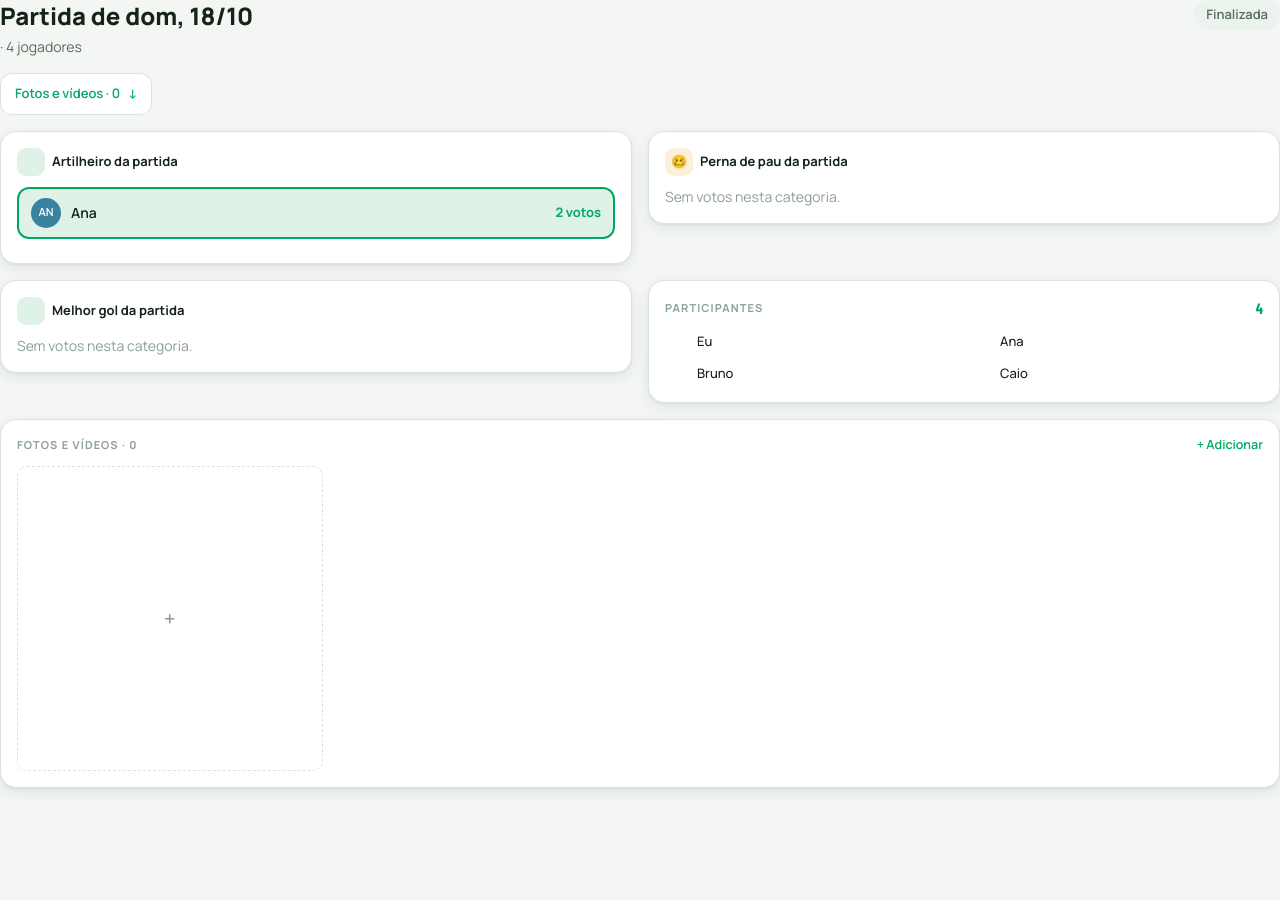
Test: perfil de jogadores na partida › abre o perfil de quem ganhou destaque no histórico
Click the button with aria-label "Ver perfil de Ana" at (578, 212), box x1=17 y1=186 x2=615 y2=238
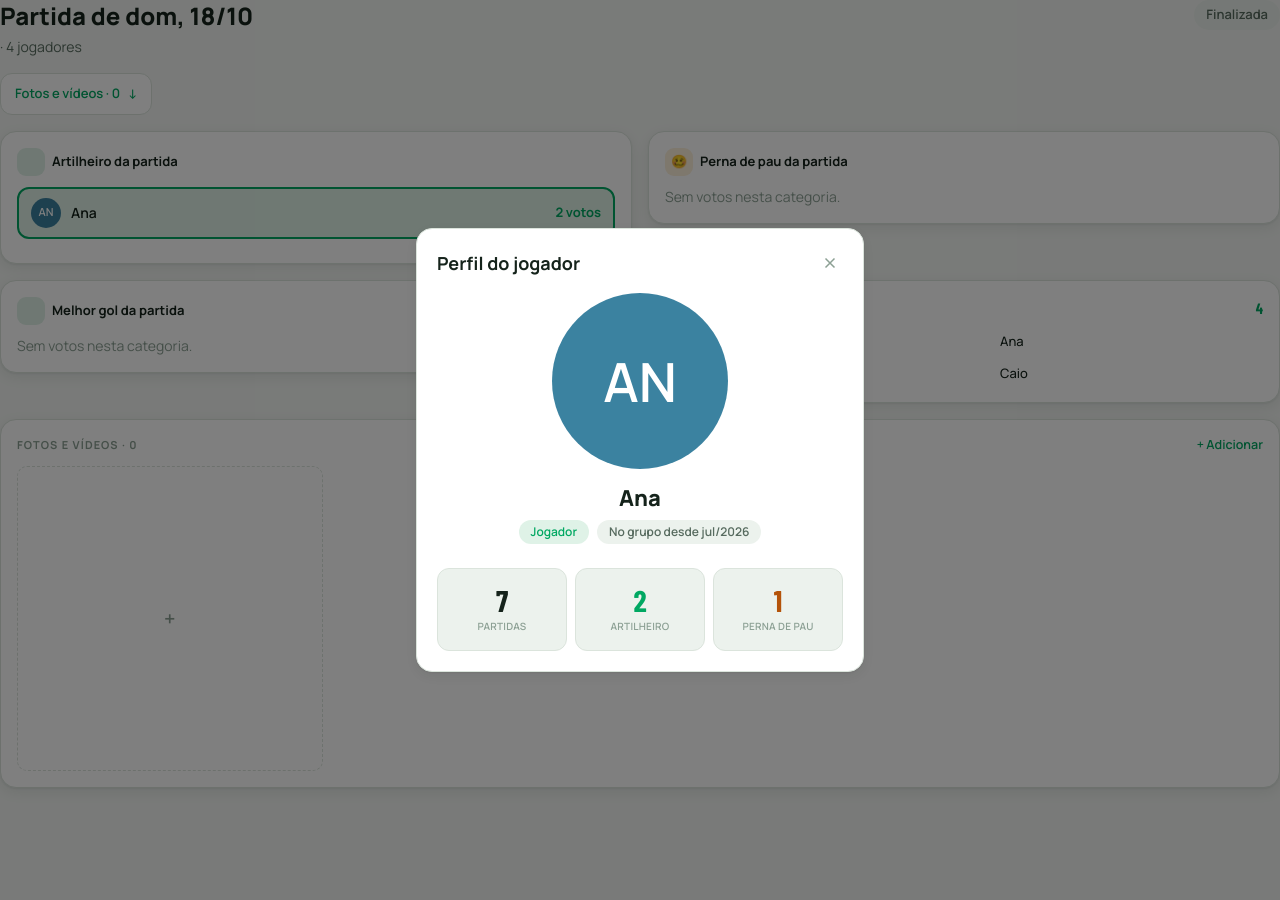
Expected: the text "Perfil do jogador" is shown, x1=437 y1=249 x2=580 y2=277
